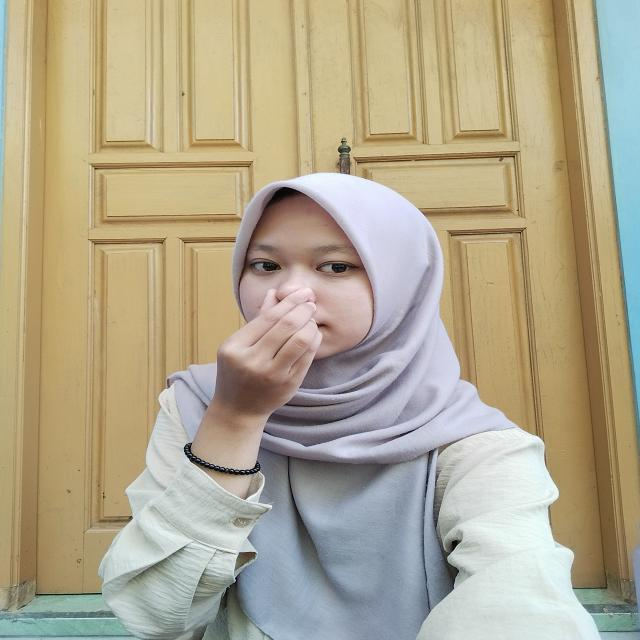bau: (170, 274, 332, 437)
